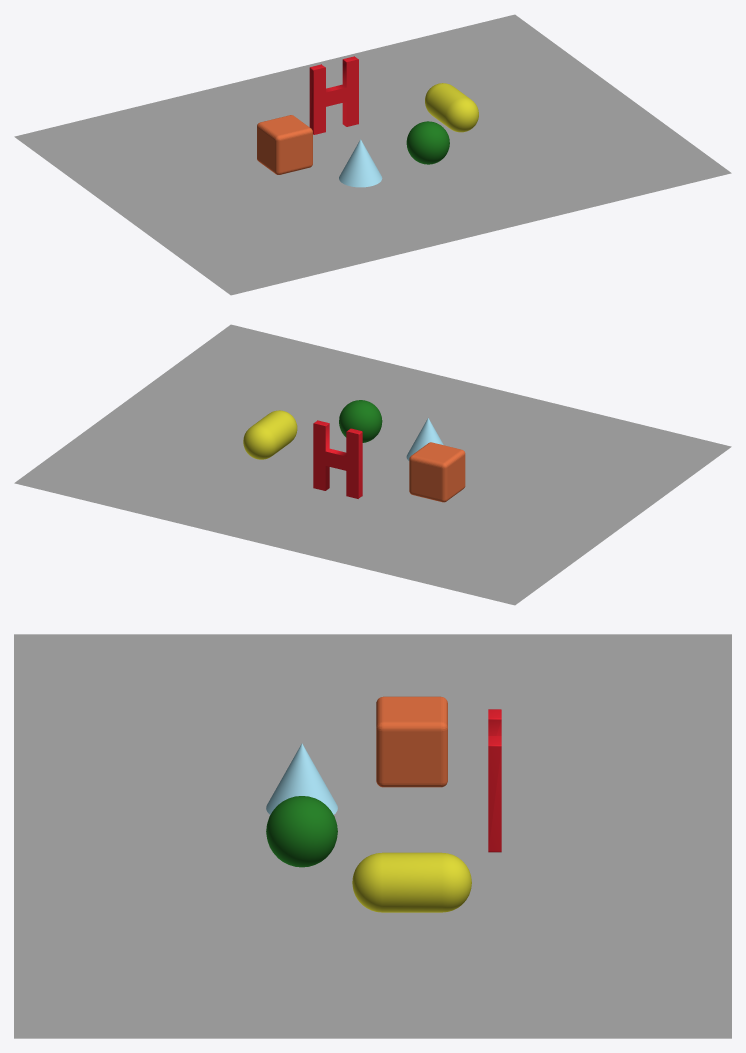
File: H-rotation.gltf
The picture shows the model from 3 angles, top to bottom: view 1: azimuth 30°, elevation 25°; view 2: azimuth 150°, elevation 25°; view 3: azimuth 270°, elevation 25°; orthographic projection. The views are drawn at different scales.
Visible parts, largest first — view 1: Plane, cube, H, Capsule, Sphere, cone; view 2: Plane, cube, H, Capsule, Sphere, cone; view 3: Plane, cube, Capsule, Sphere, cone, H.
Part boxes in pixels (x1,y1,x2,y2): Plane: (14,14,731,295); cube: (257,115,312,174); H: (309,56,358,134); Capsule: (425,83,478,132); Sphere: (406,121,449,164); cone: (339,139,382,187); Plane: (14,324,731,605); cube: (409,442,465,502); H: (313,420,362,498); Capsule: (243,410,297,459); Sphere: (339,400,382,442); cone: (406,418,443,460); Plane: (14,634,731,1038); cube: (376,696,447,787); Capsule: (352,852,471,912); Sphere: (266,796,337,867); cone: (266,743,337,814); H: (488,709,501,852).
Size of the model in its own units: 80 by 9.98 by 60.
